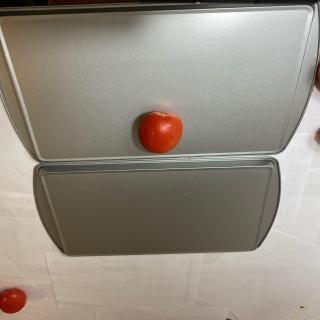Tomato: (138, 110, 183, 154), (0, 288, 27, 314)
